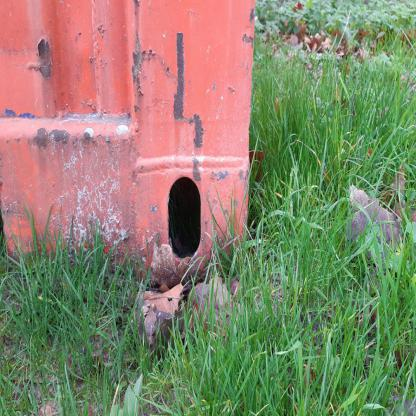CornerCasting: (128, 148, 261, 288)
